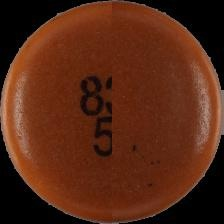0832-0302: (0, 0, 224, 224)
